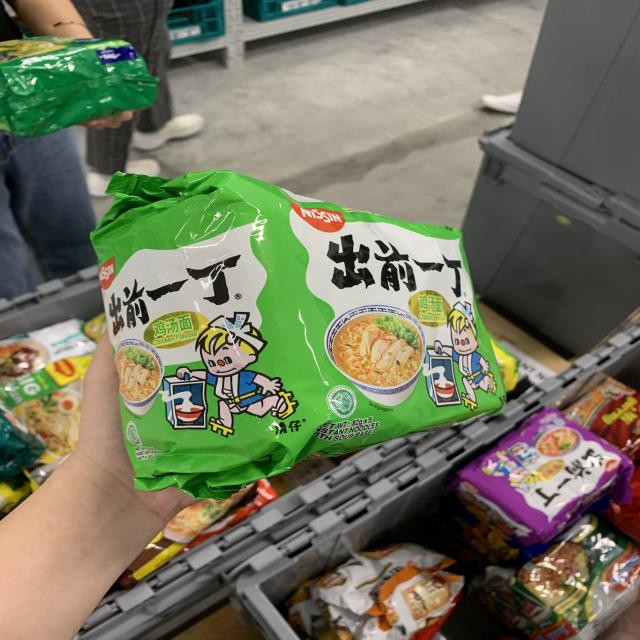object_name: (106, 195, 504, 438)
